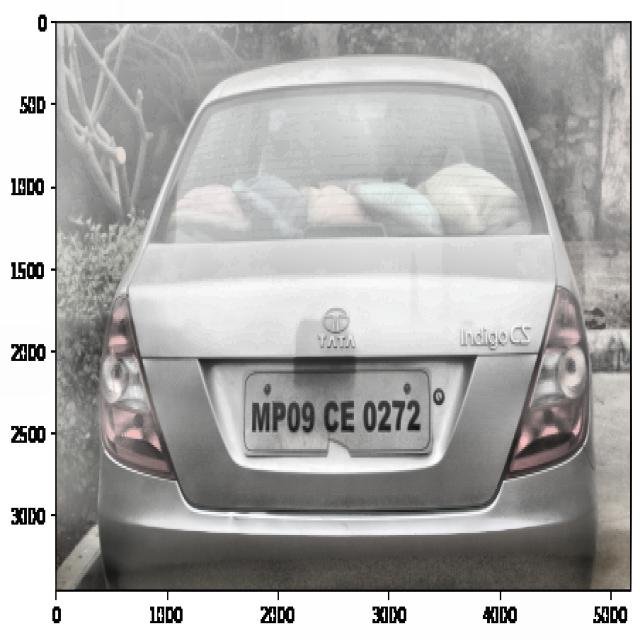license_plate: (247, 382, 426, 448)
